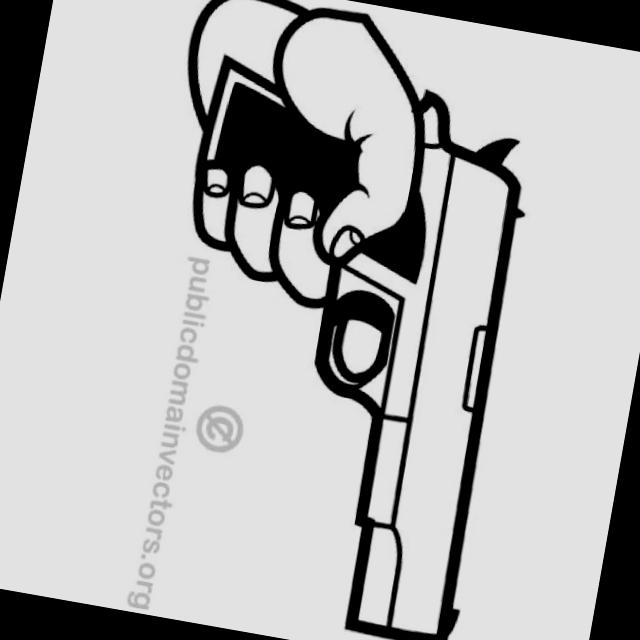handgun: (125, 55, 549, 639)
